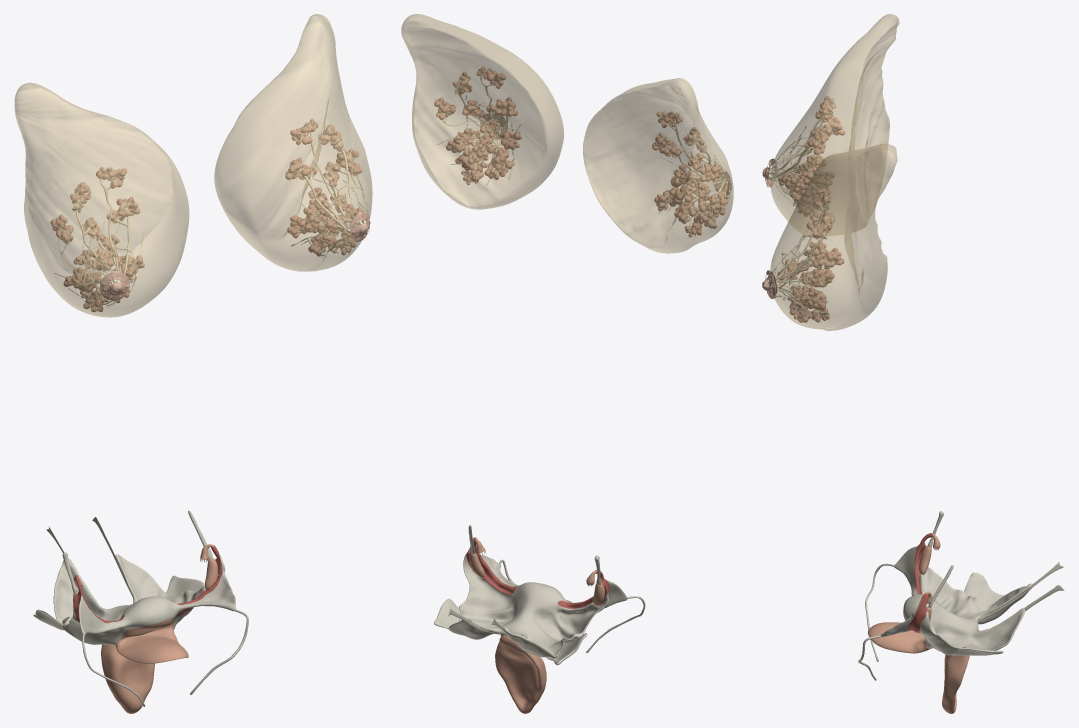
Rendered from adult_female.reproductive.LOD0.glb.
3 views of the same model, side by side, from view 1: azimuth 30°, elevation 25°; view 2: azimuth 150°, elevation 25°; view 3: azimuth 270°, elevation 25° (orthographic). The views are drawn at different scales.
Visible parts, largest first — view 1: ADULT.FEMALE.REPRODUCTIVE.MAMMARY_FAT.R, ADULT.FEMALE.REPRODUCTIVE.MAMMARY_FAT.L, ADULT.FEMALE.REPRODUCTIVE.BROAD_LIGAMENT, ADULT.FEMALE.REPRODUCTIVE.MAMMARY_LOBES.L, ADULT.FEMALE.REPRODUCTIVE.MAMMARY_LOBES.R, ADULT.FEMALE.REPRODUCTIVE.VAGINA, ADULT.FEMALE.REPRODUCTIVE.UTEROVESICAL_POUCH, ADULT.FEMALE.REPRODUCTIVE.MAIN_LACTIFEROUS_DUCTS.L, ADULT.FEMALE.REPRODUCTIVE.MAIN_LACTIFEROUS_DUCTS.R; view 2: ADULT.FEMALE.REPRODUCTIVE.MAMMARY_FAT.L, ADULT.FEMALE.REPRODUCTIVE.MAMMARY_FAT.R, ADULT.FEMALE.REPRODUCTIVE.BROAD_LIGAMENT, ADULT.FEMALE.REPRODUCTIVE.MAMMARY_LOBES.L, ADULT.FEMALE.REPRODUCTIVE.MAMMARY_LOBES.R, ADULT.FEMALE.REPRODUCTIVE.VAGINA; view 3: ADULT.FEMALE.REPRODUCTIVE.MAMMARY_FAT.L, ADULT.FEMALE.REPRODUCTIVE.MAMMARY_FAT.R, ADULT.FEMALE.REPRODUCTIVE.BROAD_LIGAMENT, ADULT.FEMALE.REPRODUCTIVE.MAMMARY_LOBES.L, ADULT.FEMALE.REPRODUCTIVE.MAMMARY_LOBES.R, ADULT.FEMALE.REPRODUCTIVE.UTEROVESICAL_POUCH, ADULT.FEMALE.REPRODUCTIVE.VAGINA, ADULT.FEMALE.REPRODUCTIVE.CARDINAL_LIGAMENT_OF_UTERUS.R, ADULT.FEMALE.REPRODUCTIVE.MAIN_LACTIFEROUS_DUCTS.L, ADULT.FEMALE.REPRODUCTIVE.MAIN_LACTIFEROUS_DUCTS.R.
Boxes of the visible parts, left/top/right/bottom form: ADULT.FEMALE.REPRODUCTIVE.MAMMARY_FAT.R: left=14, top=82, right=189, bottom=317; ADULT.FEMALE.REPRODUCTIVE.MAMMARY_FAT.L: left=214, top=14, right=372, bottom=271; ADULT.FEMALE.REPRODUCTIVE.BROAD_LIGAMENT: left=53, top=552, right=235, bottom=645; ADULT.FEMALE.REPRODUCTIVE.MAMMARY_LOBES.L: left=285, top=119, right=362, bottom=256; ADULT.FEMALE.REPRODUCTIVE.MAMMARY_LOBES.R: left=50, top=167, right=144, bottom=312; ADULT.FEMALE.REPRODUCTIVE.VAGINA: left=101, top=644, right=154, bottom=713; ADULT.FEMALE.REPRODUCTIVE.UTEROVESICAL_POUCH: left=115, top=618, right=188, bottom=663; ADULT.FEMALE.REPRODUCTIVE.MAIN_LACTIFEROUS_DUCTS.L: left=299, top=126, right=363, bottom=250; ADULT.FEMALE.REPRODUCTIVE.MAIN_LACTIFEROUS_DUCTS.R: left=58, top=178, right=129, bottom=304; ADULT.FEMALE.REPRODUCTIVE.MAMMARY_FAT.L: left=401, top=14, right=563, bottom=209; ADULT.FEMALE.REPRODUCTIVE.MAMMARY_FAT.R: left=583, top=78, right=733, bottom=253; ADULT.FEMALE.REPRODUCTIVE.BROAD_LIGAMENT: left=448, top=552, right=627, bottom=658; ADULT.FEMALE.REPRODUCTIVE.MAMMARY_LOBES.L: left=434, top=66, right=521, bottom=185; ADULT.FEMALE.REPRODUCTIVE.MAMMARY_LOBES.R: left=652, top=111, right=727, bottom=237; ADULT.FEMALE.REPRODUCTIVE.VAGINA: left=495, top=651, right=546, bottom=713; ADULT.FEMALE.REPRODUCTIVE.MAMMARY_FAT.L: left=770, top=143, right=897, bottom=330; ADULT.FEMALE.REPRODUCTIVE.MAMMARY_FAT.R: left=770, top=14, right=899, bottom=235; ADULT.FEMALE.REPRODUCTIVE.BROAD_LIGAMENT: left=881, top=546, right=1032, bottom=655; ADULT.FEMALE.REPRODUCTIVE.MAMMARY_LOBES.L: left=777, top=188, right=844, bottom=322; ADULT.FEMALE.REPRODUCTIVE.MAMMARY_LOBES.R: left=778, top=96, right=845, bottom=216; ADULT.FEMALE.REPRODUCTIVE.UTEROVESICAL_POUCH: left=868, top=612, right=931, bottom=653; ADULT.FEMALE.REPRODUCTIVE.VAGINA: left=942, top=655, right=968, bottom=713; ADULT.FEMALE.REPRODUCTIVE.CARDINAL_LIGAMENT_OF_UTERUS.R: left=964, top=572, right=1003, bottom=605; ADULT.FEMALE.REPRODUCTIVE.MAIN_LACTIFEROUS_DUCTS.L: left=765, top=203, right=830, bottom=316; ADULT.FEMALE.REPRODUCTIVE.MAIN_LACTIFEROUS_DUCTS.R: left=765, top=103, right=832, bottom=206.
Size of the model in its own units: 0.2889 by 0.5806 by 0.25.
